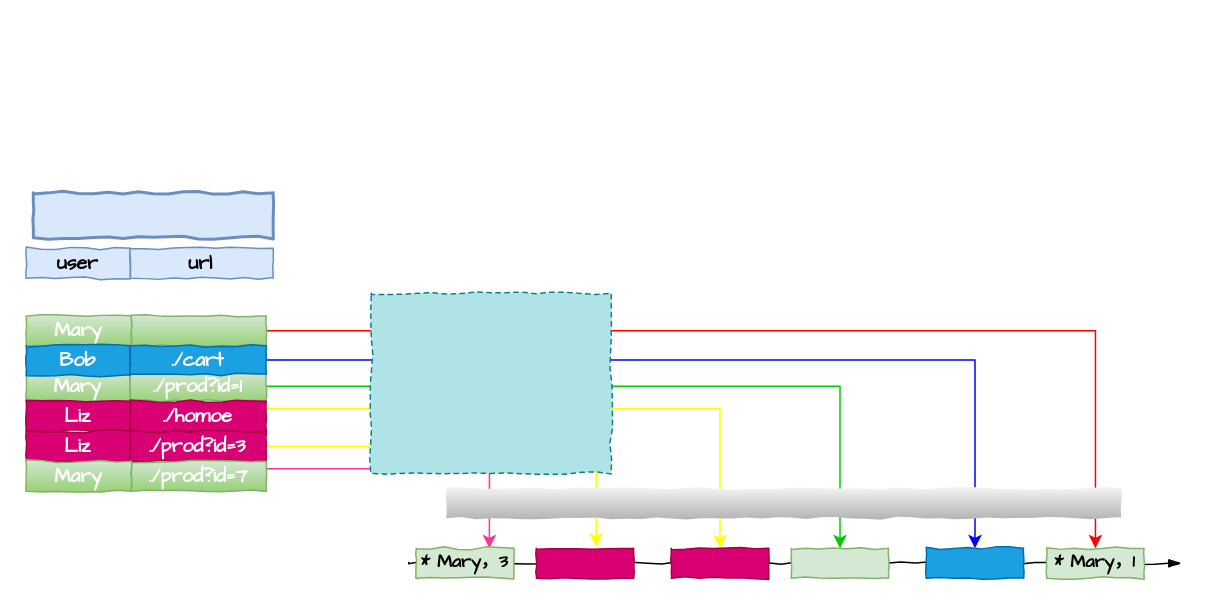
The diagram is 1220 pixels wide and 605 high, and some of its shapes have lost their labels. Each missing label, with the centre of its shape:
"* Bob，1" goes at point 974,562.
"* Liz，1" goes at point 719,562.
"* Liz，2" goes at point 584,562.
"* Mary，2" goes at point 839,562.
"* UPSERT by KEY / -DELETE by KEY" goes at point 783,503.
"./home" goes at point 198,330.
"clicks" goes at point 152,214.
"SELECT user, COUNT(url) as cnt FROM clicks GROUP BY user" goes at point 490,382.
